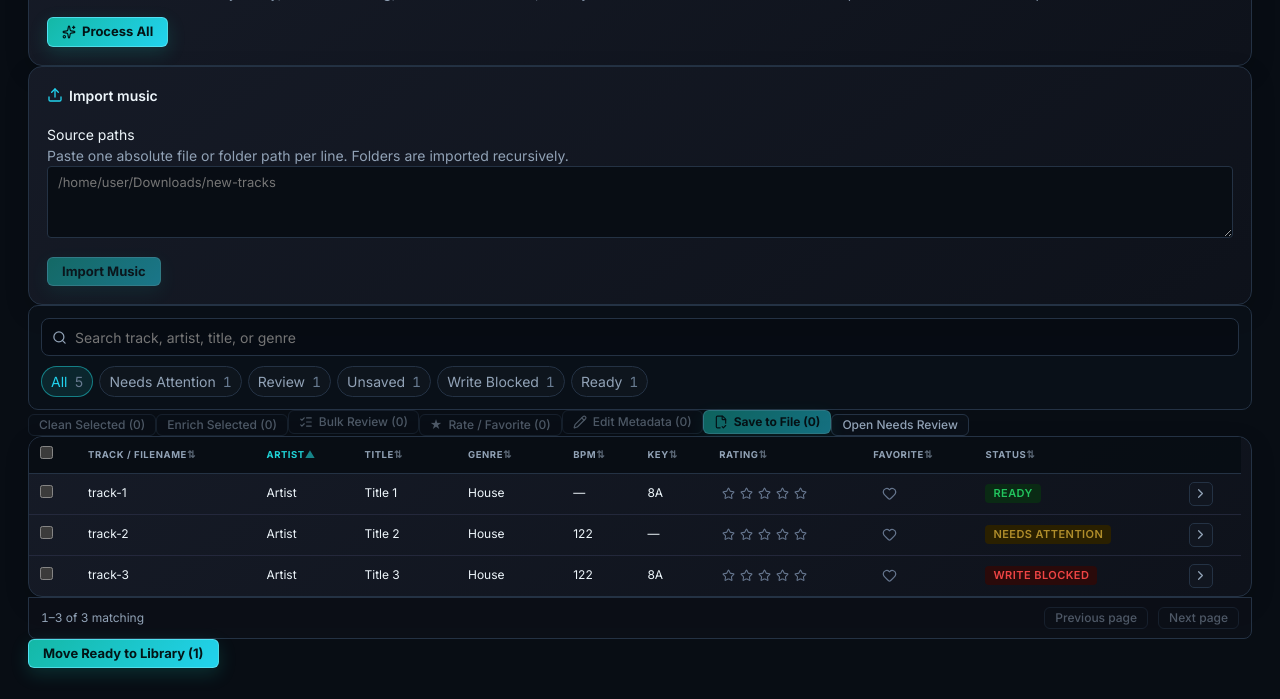
Test: Inbox filtering, selection, and inspector › keeps ID selection across sort and explains hidden selections across filters
(page scrolled)
Click the checkbox named "Select track-1.mp3".
click(46, 492)  # box left=40, top=485, right=53, bottom=498
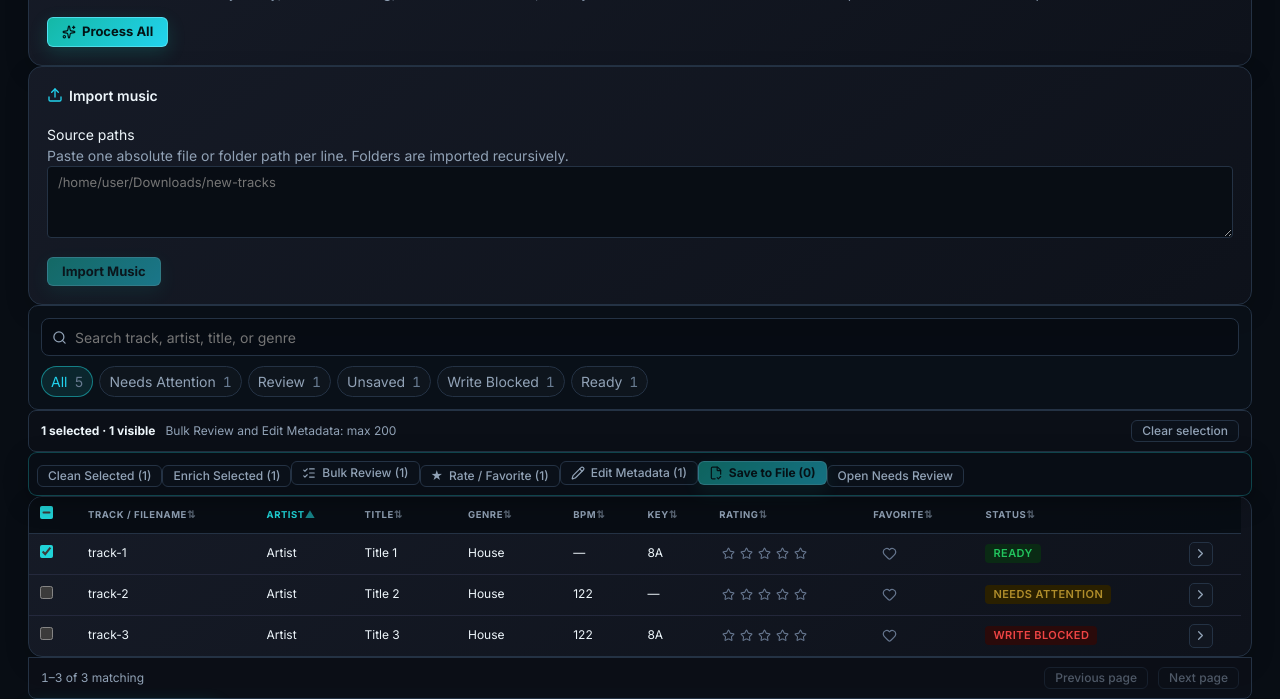
Now the text "1 selected · 1 visible" is shown, box left=41, top=422, right=156, bottom=440
Click the button "Artist ▲".
click(291, 515)  # box left=266, top=507, right=316, bottom=522
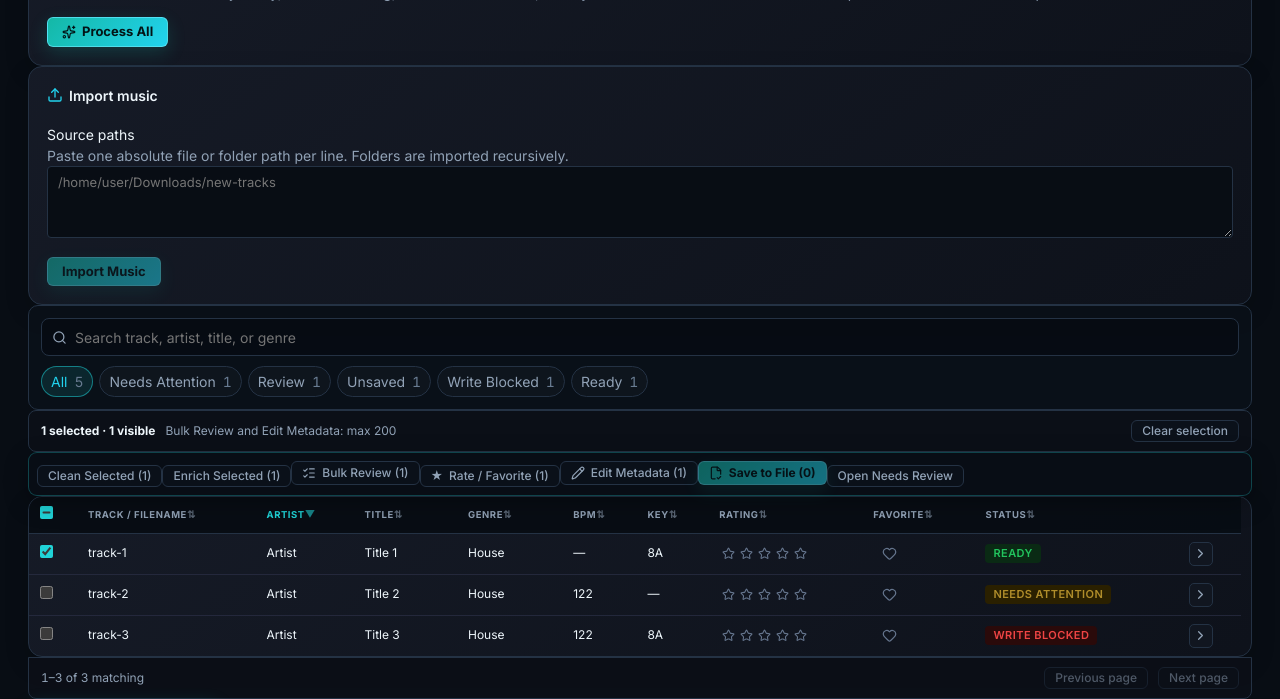
Now the checkbox named "Select track-1.mp3" is checked, box left=40, top=545, right=53, bottom=558
Click the button "Needs Attention 1".
click(171, 382)  # box left=100, top=366, right=242, bottom=397
(page scrolled)
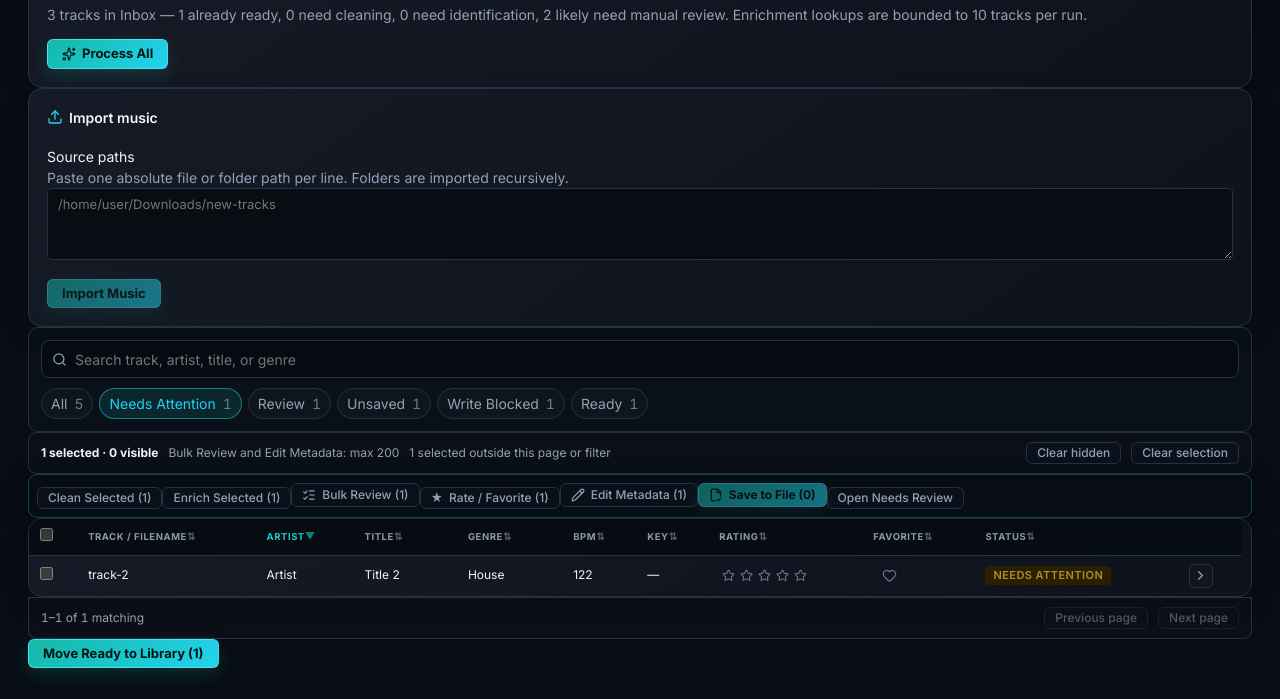
Expected: the checkbox named "Select track-2.mp3" is shown, left=40, top=567, right=53, bottom=580
Now the text "1 selected · 0 visible" is shown, box left=41, top=444, right=158, bottom=462
Now the text "1 selected outside this page or filter" is shown, box left=409, top=444, right=611, bottom=462
Click the button "Clear hidden".
click(1074, 453)  # box left=1026, top=442, right=1121, bottom=464
(page scrolled)
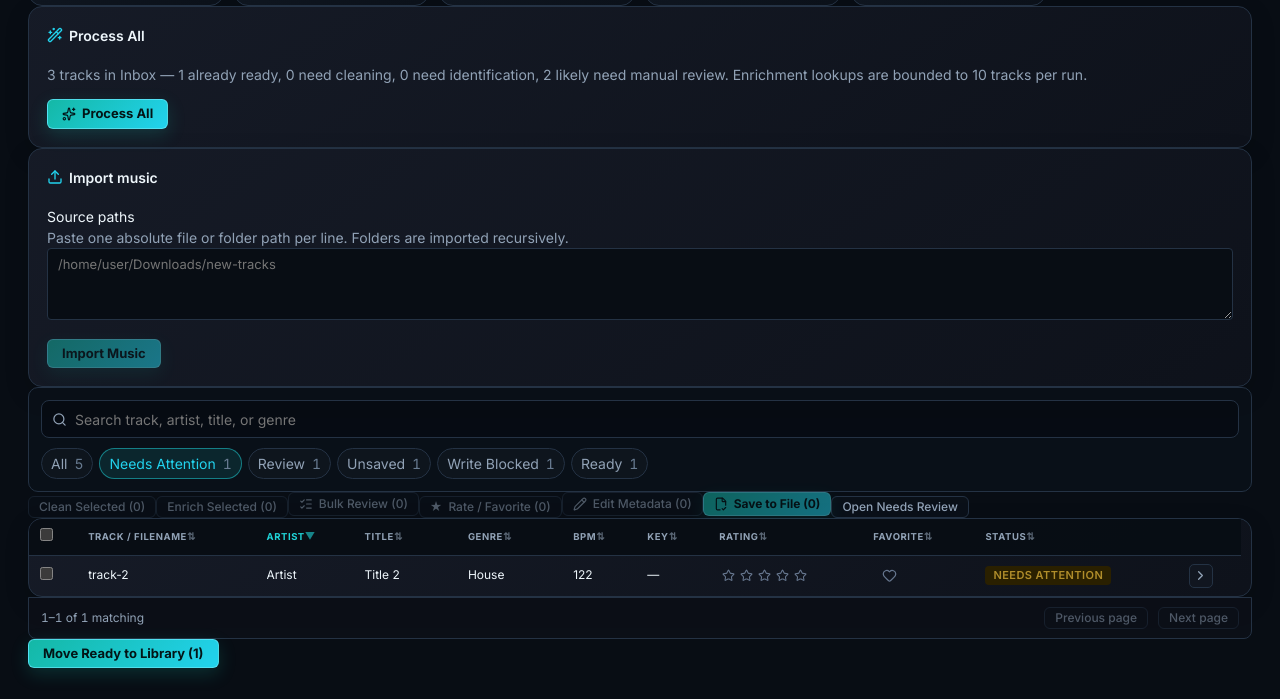
Now the text "selected ·" is gone
